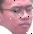without_mask: (2, 2, 33, 34)
